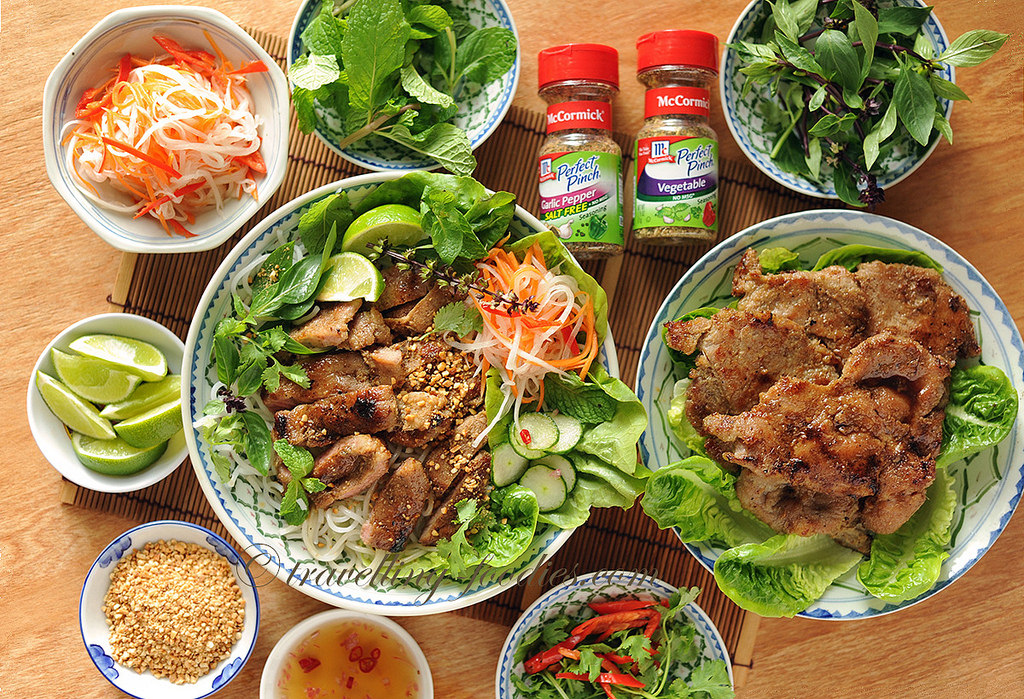chopped lettuce: (768, 15, 927, 169), (332, 10, 483, 151), (668, 485, 783, 585)
